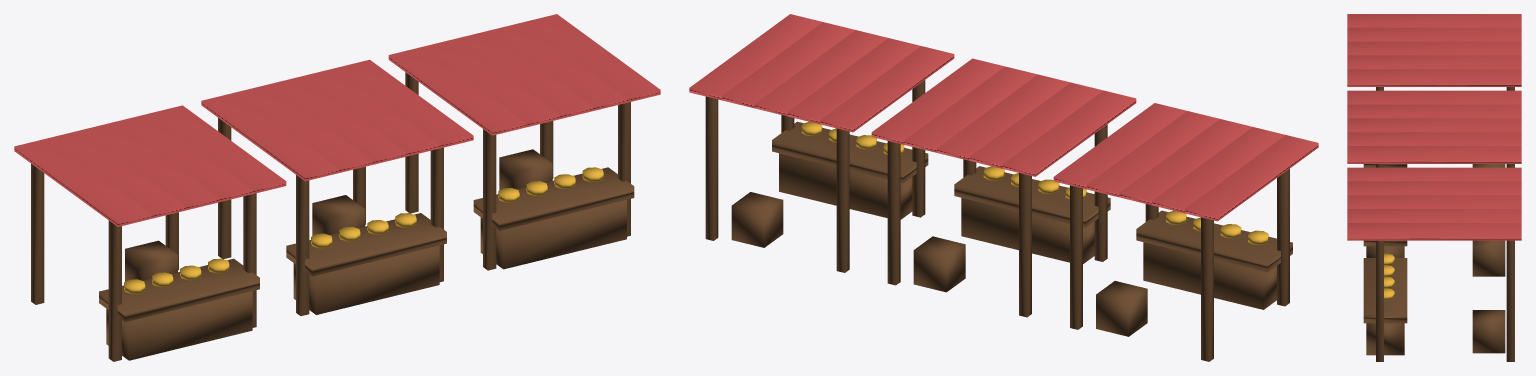
File: market.glb
3 renders of one model, left to right at view 1: azimuth 30°, elevation 25°; view 2: azimuth 150°, elevation 25°; view 3: azimuth 270°, elevation 25°, orthographic. The views are drawn at different scales.
Parts seen in each view (by area): view 1: stall0_counter_base, stall1_counter_base, stall2_counter_base, stall2_counter_top, stall1_counter_top, stall0_counter_top, stall1_awning0, stall2_awning0, stall0_awning0, stall0_awning4, stall0_awning1, stall1_awning2 (+23 smaller); view 2: stall0_counter_base, stall2_counter_base, stall1_counter_base, stall1_awning0, stall2_awning0, stall0_awning0, stall0_counter_top, stall0_awning4, stall0_awning3, stall1_awning4, stall2_awning1, stall1_awning2 (+21 smaller); view 3: stall0_awning4, stall1_awning4, stall2_awning4, stall0_awning1, stall0_awning2, stall0_awning3, stall1_awning0, stall1_awning1, stall1_awning2, stall2_awning0, stall2_awning1, stall0_awning0 (+11 smaller).
Boxes of the visible parts, x1,y1,x2,y2 form: stall0_counter_base: [106, 291, 252, 360]; stall1_counter_base: [293, 245, 439, 314]; stall2_counter_base: [480, 200, 626, 269]; stall2_counter_top: [473, 167, 634, 230]; stall1_counter_top: [286, 213, 446, 276]; stall0_counter_top: [99, 258, 259, 321]; stall1_awning0: [201, 92, 338, 181]; stall2_awning0: [388, 47, 525, 135]; stall0_awning0: [14, 138, 151, 226]; stall0_awning4: [149, 105, 286, 193]; stall0_awning1: [48, 130, 185, 218]; stall1_awning2: [269, 76, 406, 164]; stall0_counter_base: [1143, 242, 1276, 309]; stall2_counter_base: [779, 153, 912, 219]; stall1_counter_base: [961, 198, 1094, 263]; stall1_awning0: [1002, 90, 1136, 176]; stall2_awning0: [820, 46, 954, 132]; stall0_awning0: [1185, 135, 1318, 221]; stall0_counter_top: [1136, 210, 1292, 272]; stall0_awning4: [1053, 103, 1186, 189]; stall0_awning3: [1086, 111, 1219, 197]; stall1_awning4: [871, 58, 1004, 144]; stall2_awning1: [787, 38, 920, 124]; stall1_awning2: [937, 74, 1070, 160]; stall0_awning4: [1347, 69, 1521, 86]; stall1_awning4: [1347, 146, 1521, 163]; stall2_awning4: [1347, 223, 1521, 240]; stall0_awning1: [1347, 27, 1521, 41]; stall0_awning2: [1347, 41, 1521, 55]; stall0_awning3: [1347, 55, 1521, 69]; stall1_awning0: [1347, 90, 1521, 104]; stall1_awning1: [1347, 104, 1521, 118]; stall1_awning2: [1347, 118, 1521, 132]; stall2_awning0: [1347, 167, 1521, 181]; stall2_awning1: [1347, 181, 1521, 195]; stall0_awning0: [1347, 14, 1521, 27].
Bounding box in the file's own units: 9.67 × 2.64 × 3.2.
